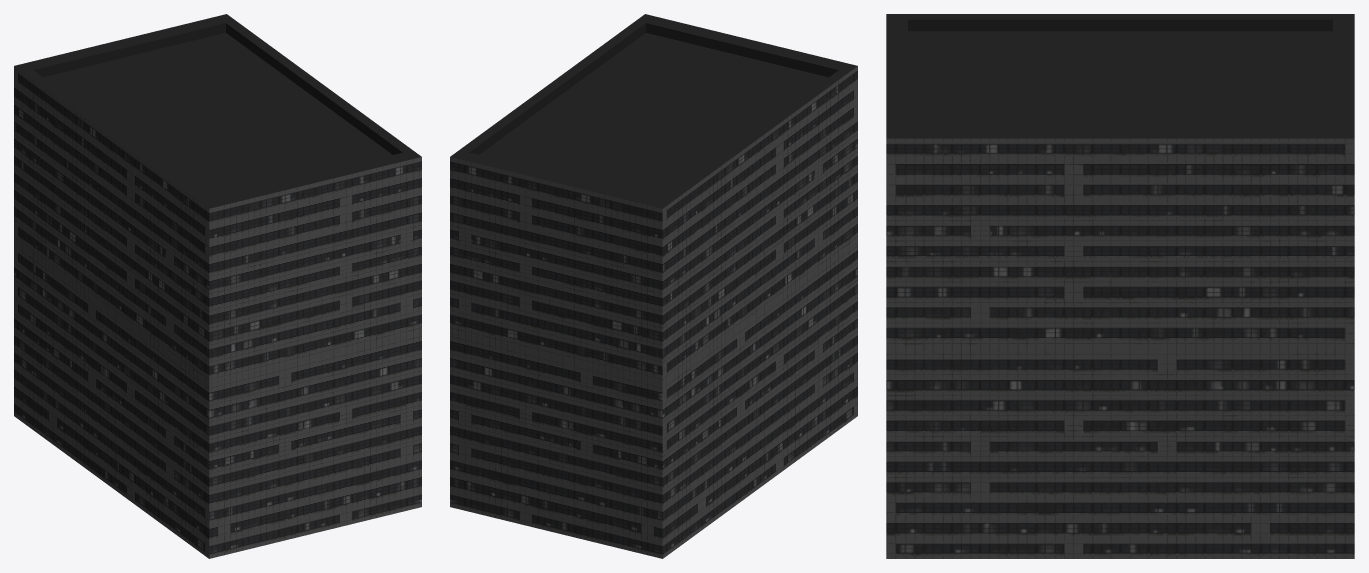
The model's file is Mesh_Residential-Medium.fbx.
3 renders of one model, left to right at view 1: azimuth 30°, elevation 25°; view 2: azimuth 150°, elevation 25°; view 3: azimuth 270°, elevation 25°, orthographic. The views are drawn at different scales.
Visible parts, largest first — view 1: Mesh_Residential-Medium; view 2: Mesh_Residential-Medium; view 3: Mesh_Residential-Medium.
Boxes of the visible parts, x1,y1,x2,y2 form: Mesh_Residential-Medium: (14, 14, 421, 558); Mesh_Residential-Medium: (450, 14, 857, 558); Mesh_Residential-Medium: (886, 14, 1354, 558).
Bounding box in the file's own units: 24.55 × 38.61 × 39.01.
